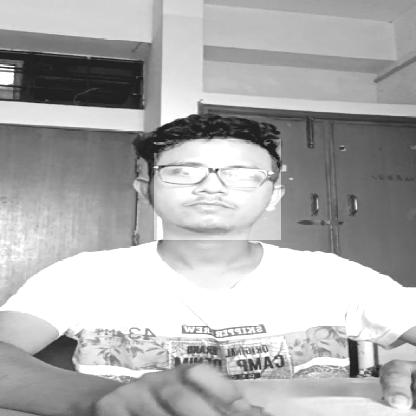Normal: (154, 139, 281, 240)
